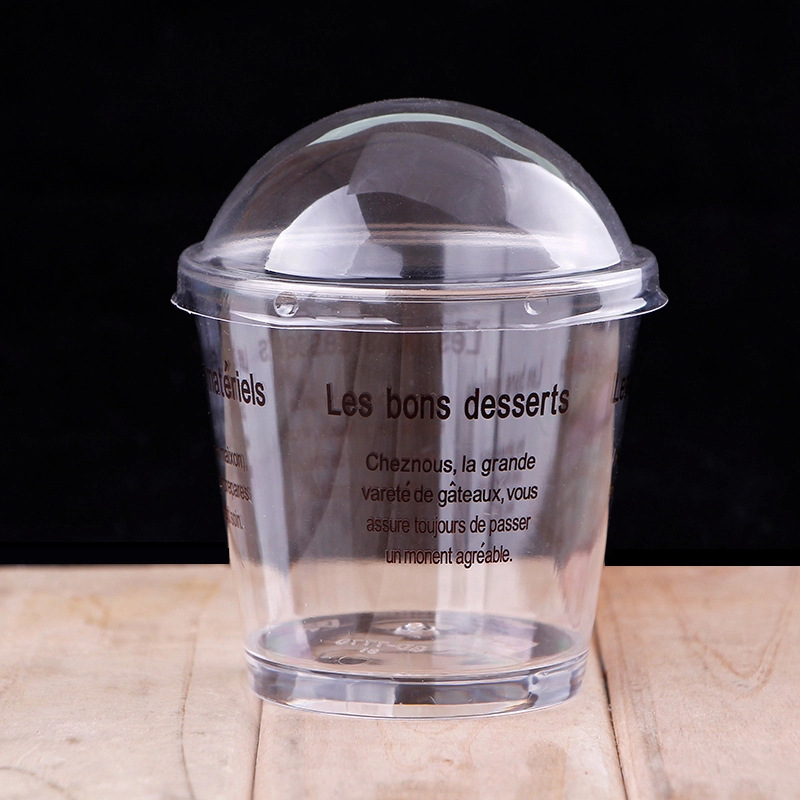plastic_bottle: (165, 92, 674, 724)
